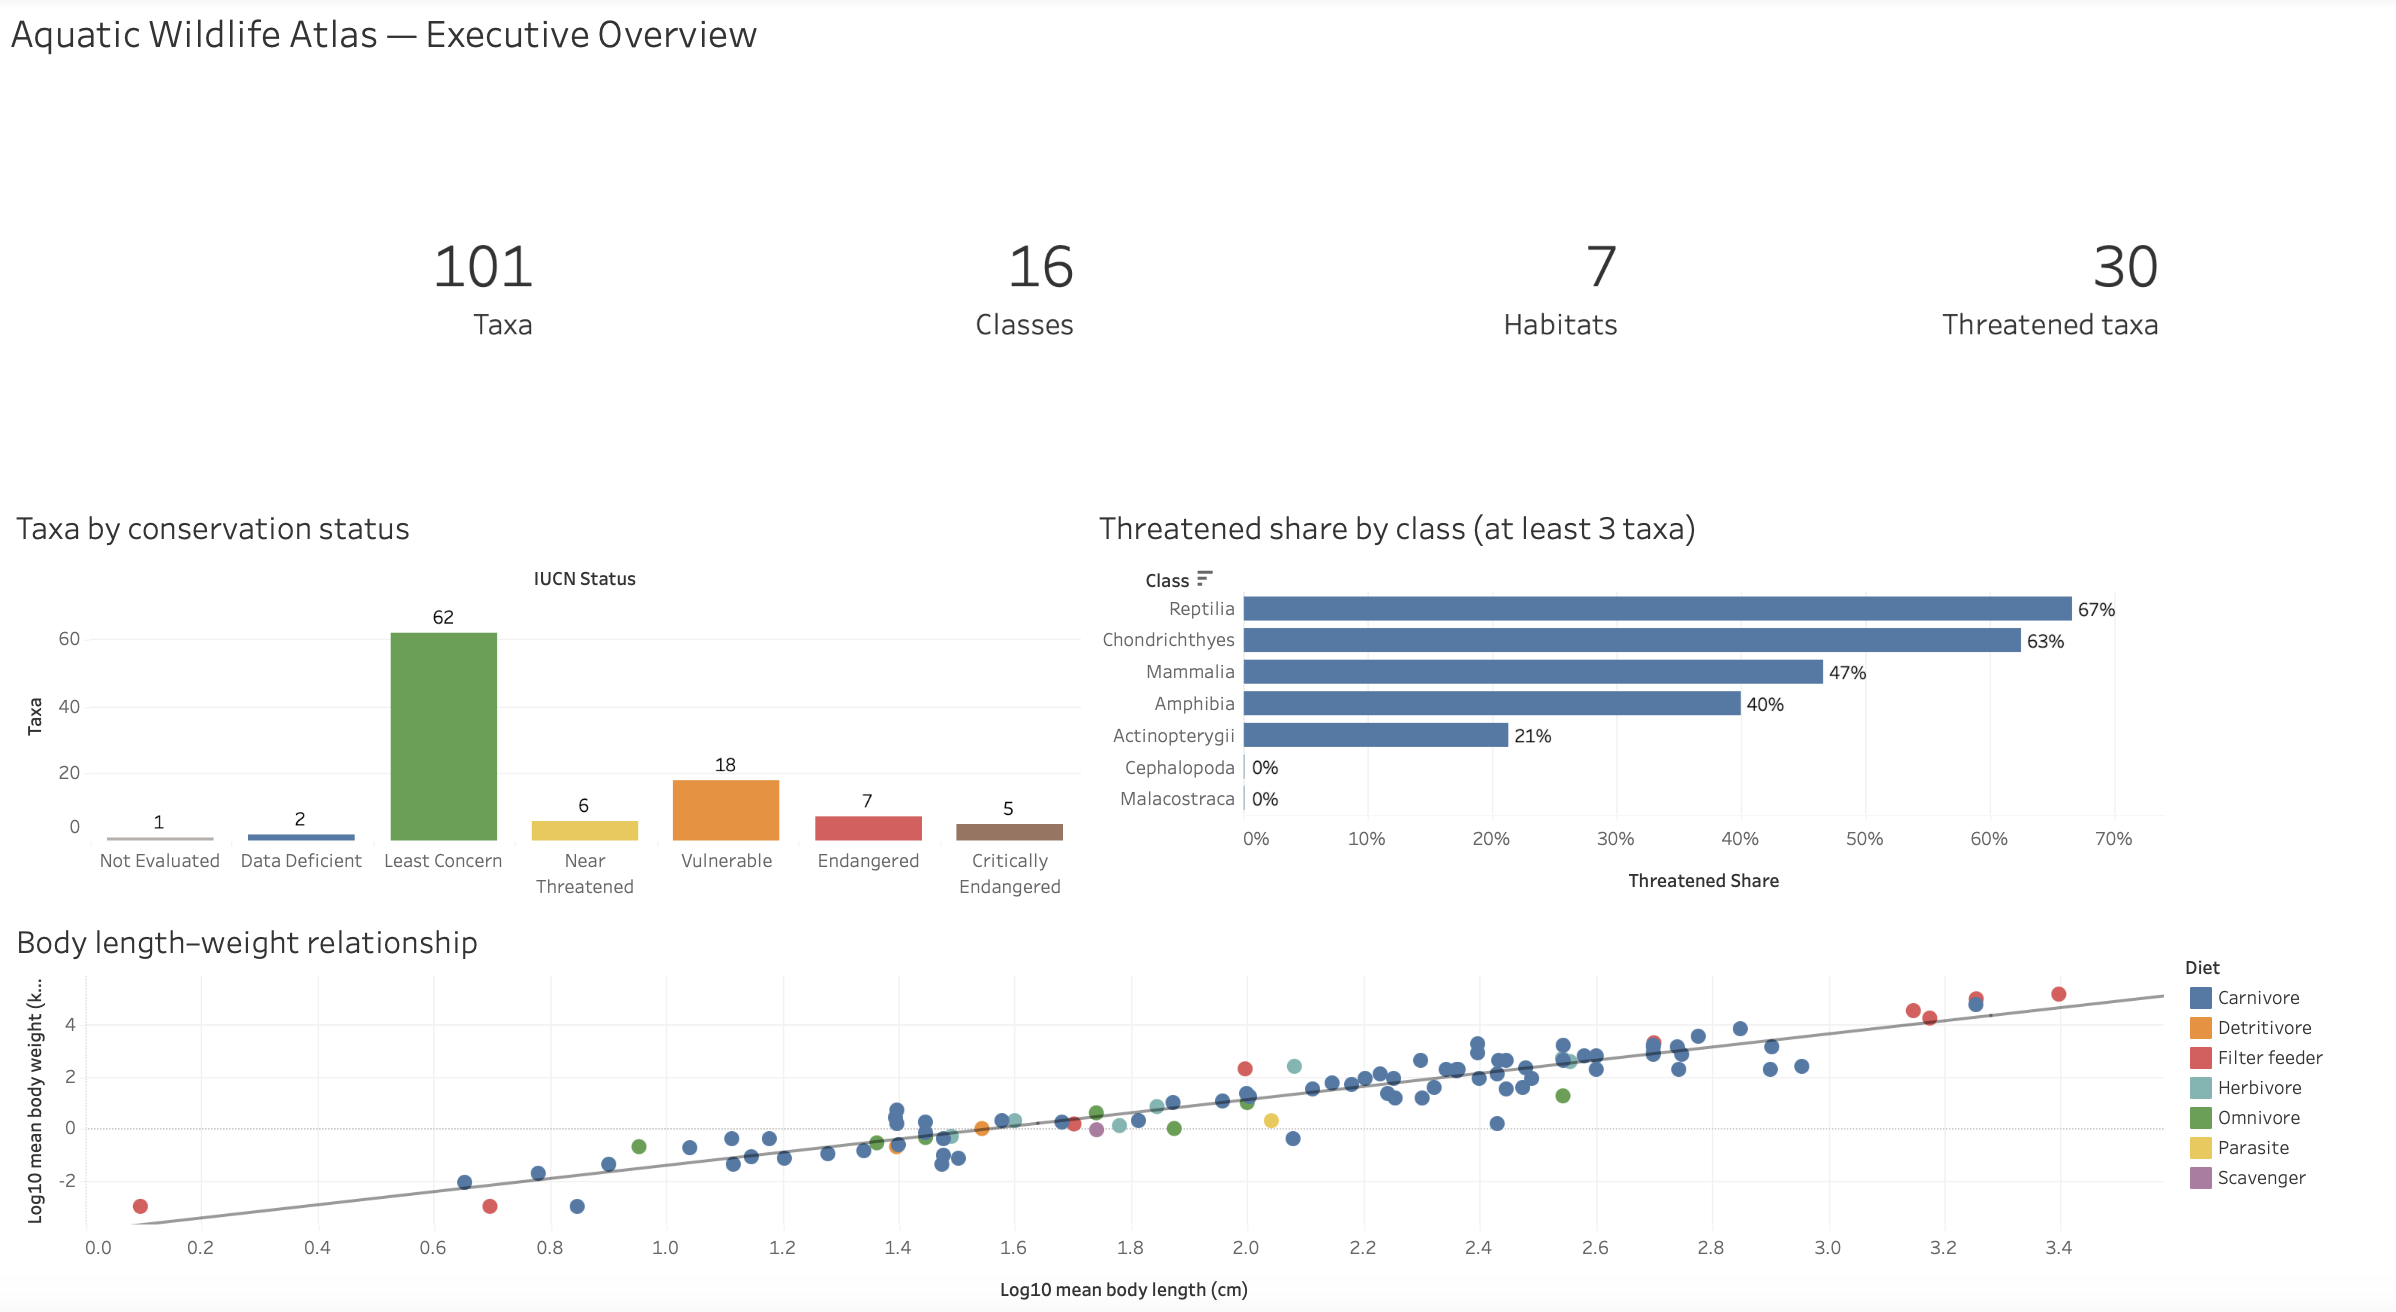

This screenshot's page, from the dashboard's own definition file:
{"tool":"tableau","page":{"name":"Aquatic Wildlife Atlas — Executive Overview","canvas":[1600,900],"ordinal":0},"visuals":[{"type":"title","box":[8,8,1584,58]},{"type":"worksheet","title":"KPI – Taxa","mark":"Automatic","box":[8,66,361.2,276.5]},{"type":"worksheet","title":"KPI – Classes","mark":"Automatic","box":[369.2,66,361.2,276.5]},{"type":"worksheet","title":"KPI – Habitats","mark":"Automatic","box":[730.5,66,361.2,276.5]},{"type":"worksheet","title":"KPI – Threatened","mark":"Automatic","box":[1091.7,66,361.2,276.5]},{"type":"worksheet","title":"Taxa by conservation status","mark":"Bar","rows":["Scientific_Name"],"cols":["IUCN_Status"],"box":[8,342.5,722.4,276.6]},{"type":"worksheet","title":"Threatened share by class (at least 3 taxa)","mark":"Bar","rows":["Class"],"cols":["Calculation_0861015143587840"],"box":[730.4,342.5,722.6,276.6]},{"type":"worksheet","title":"Body length–weight relationship","mark":"Circle","rows":["Calculation_0861015155142659"],"cols":["Calculation_0861015155019778"],"box":[8,619.1,1445,272.9]},{"type":"legend","title":"Body length–weight relationship","param":"[federated.1by7sno0pozci717myh6n04ko5e2].[none:Diet:nk]","box":[1462,651,131,244]}]}

Visuals, with their boxes in screenshot pixels (x1, y1, x2, y2), scaled from the page's 1600x900 canvas onto the 2396x1312 screenshot:
title: select_region(12, 12, 2384, 96)
"KPI – Taxa" worksheet: select_region(12, 96, 553, 499)
"KPI – Classes" worksheet: select_region(553, 96, 1094, 499)
"KPI – Habitats" worksheet: select_region(1094, 96, 1635, 499)
"KPI – Threatened" worksheet: select_region(1635, 96, 2176, 499)
"Taxa by conservation status" worksheet (Bar marks): select_region(12, 499, 1094, 903)
"Threatened share by class (at least 3 taxa)" worksheet (Bar marks): select_region(1094, 499, 2176, 903)
"Body length–weight relationship" worksheet (Circle marks): select_region(12, 903, 2176, 1300)
"Body length–weight relationship" legend: select_region(2189, 949, 2386, 1305)
